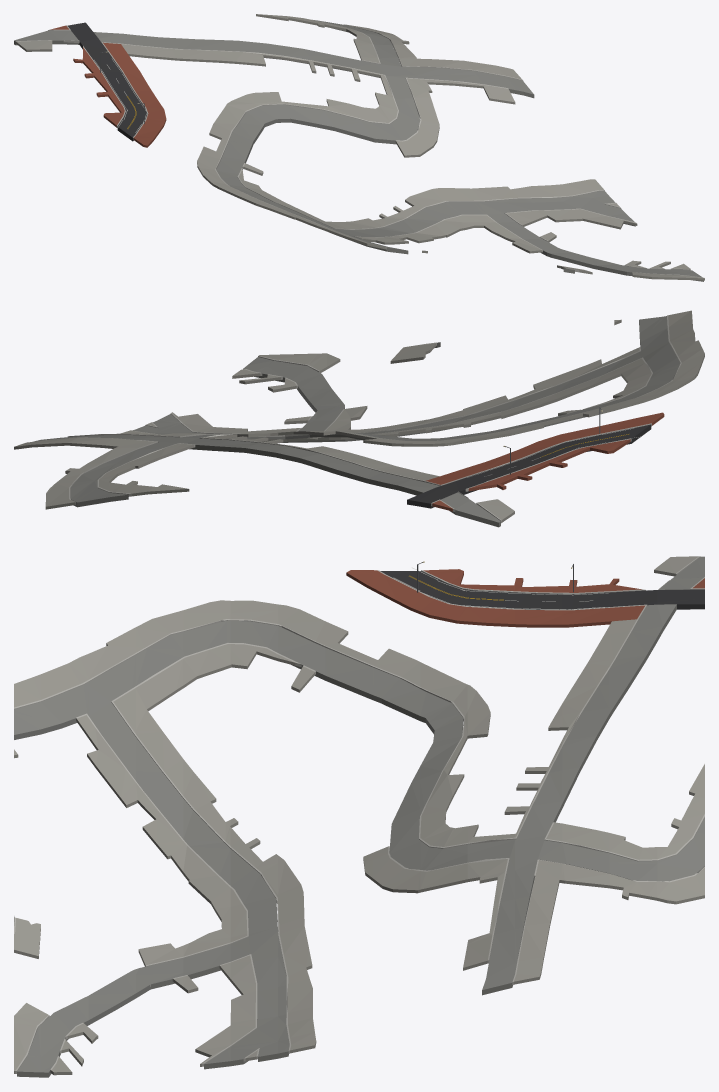
3 views of the same model, one above another, from view 1: azimuth 30°, elevation 25°; view 2: azimuth 150°, elevation 25°; view 3: azimuth 270°, elevation 25° (orthographic). The views are drawn at different scales.
Bounding box in the file's own units: 148 × 57.26 × 146.
